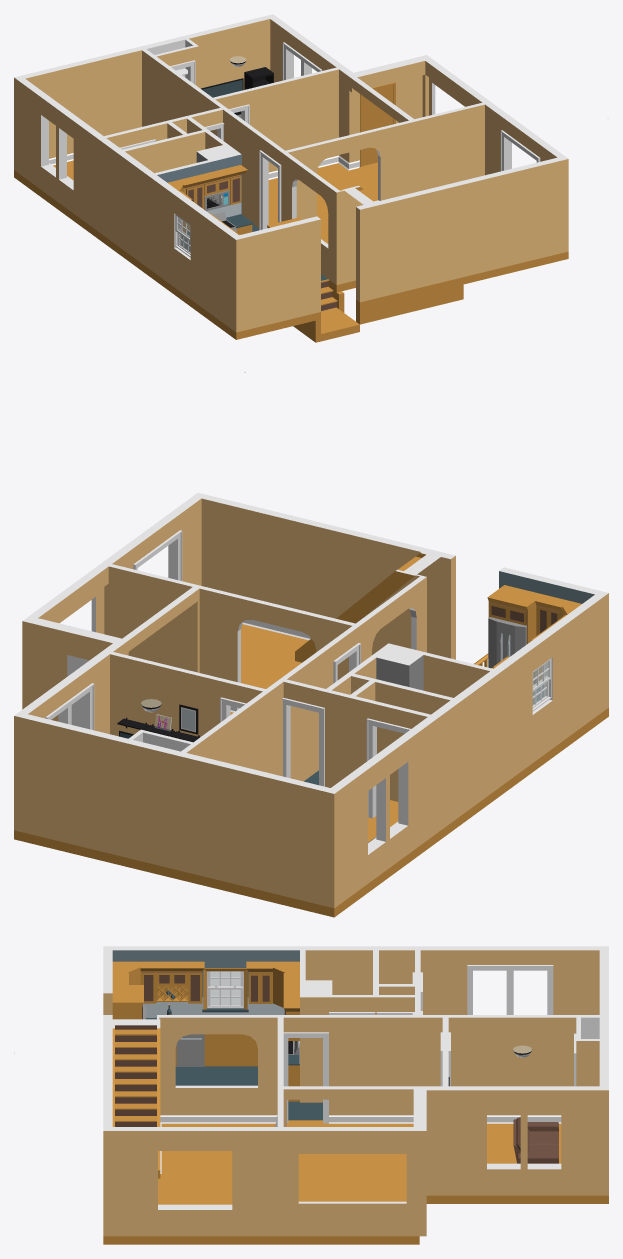
Rendered from room1.glb.
The picture shows the model from 3 angles, top to bottom: view 1: azimuth 30°, elevation 25°; view 2: azimuth 150°, elevation 25°; view 3: azimuth 270°, elevation 25°; orthographic projection. The views are drawn at different scales.
Visible parts, largest first — view 1: group996890033.001; view 2: group996890033.001; view 3: group996890033.001, group920500871.001.
Boxes of the visible parts, bbox=[...] form: group996890033.001: bbox=[14, 14, 608, 342]; group996890033.001: bbox=[14, 371, 608, 917]; group996890033.001: bbox=[14, 946, 608, 1244]; group920500871.001: bbox=[210, 971, 531, 1053].
Size of the model in its own units: 110 by 60.41 by 149.
Materials: 2 (2 with a texture image).
